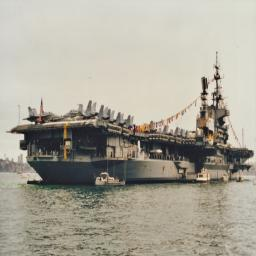Portanaves: (8, 47, 255, 189)
